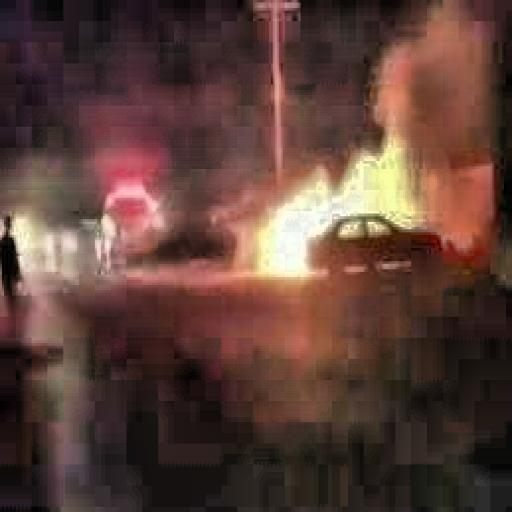fire: (255, 150, 435, 285)
